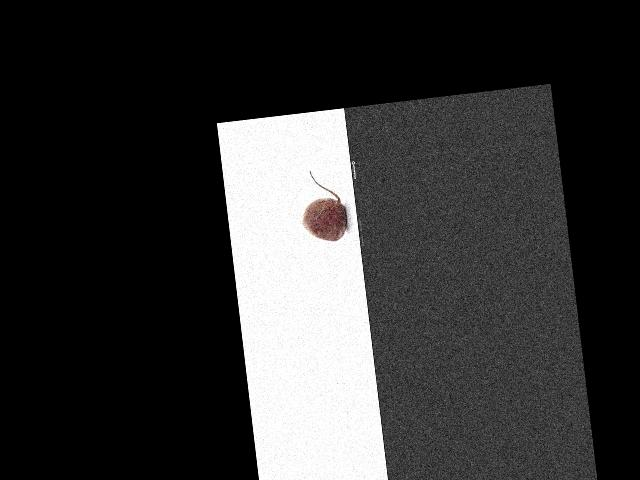beet: (297, 167, 349, 244)
